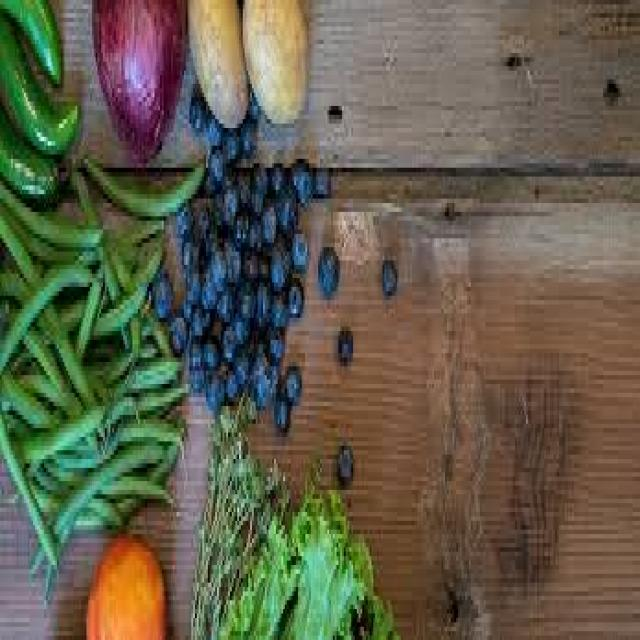organic waste: (191, 392, 287, 636), (29, 437, 164, 574), (0, 208, 94, 398), (285, 486, 392, 636), (87, 0, 182, 159), (42, 424, 182, 525), (0, 13, 75, 158), (217, 503, 296, 636), (0, 256, 92, 358), (0, 406, 57, 569), (82, 534, 164, 636), (81, 150, 202, 216), (184, 0, 246, 128), (9, 309, 77, 424), (241, 0, 305, 119), (105, 234, 167, 344), (28, 468, 144, 521), (9, 402, 103, 464), (0, 110, 59, 203), (2, 362, 70, 432), (0, 0, 60, 79), (57, 464, 175, 503), (37, 336, 132, 380), (94, 264, 151, 326), (96, 256, 136, 344), (41, 490, 74, 596), (48, 433, 121, 472), (114, 411, 182, 450), (129, 344, 189, 380), (246, 340, 274, 406), (136, 380, 188, 406), (151, 264, 169, 326), (318, 243, 337, 300), (221, 221, 239, 278), (250, 154, 267, 212), (276, 185, 296, 234), (217, 313, 237, 362), (195, 207, 215, 256), (208, 242, 226, 296), (268, 243, 290, 287), (290, 155, 310, 203), (197, 265, 217, 309), (180, 225, 197, 274), (333, 441, 353, 481), (379, 252, 397, 296), (234, 274, 252, 318), (190, 291, 212, 327), (215, 278, 234, 318), (254, 274, 268, 326), (200, 335, 220, 371), (269, 287, 285, 331), (219, 181, 235, 225), (281, 362, 298, 402), (204, 141, 221, 181), (204, 371, 221, 410), (285, 274, 300, 318), (261, 198, 276, 242), (289, 225, 305, 265), (186, 88, 202, 128), (169, 313, 184, 353), (173, 194, 189, 230), (237, 110, 250, 154), (232, 208, 246, 247), (239, 238, 256, 270), (230, 314, 248, 344), (204, 110, 219, 146), (206, 185, 221, 221), (234, 159, 246, 203), (336, 322, 349, 362), (276, 389, 289, 428), (311, 163, 327, 194), (265, 327, 281, 358), (230, 348, 246, 379), (219, 128, 235, 159), (242, 84, 255, 119), (269, 159, 283, 190), (222, 367, 235, 398), (184, 274, 199, 300), (186, 331, 198, 362), (178, 292, 190, 322), (245, 216, 258, 243), (190, 362, 202, 388), (220, 159, 232, 181)
